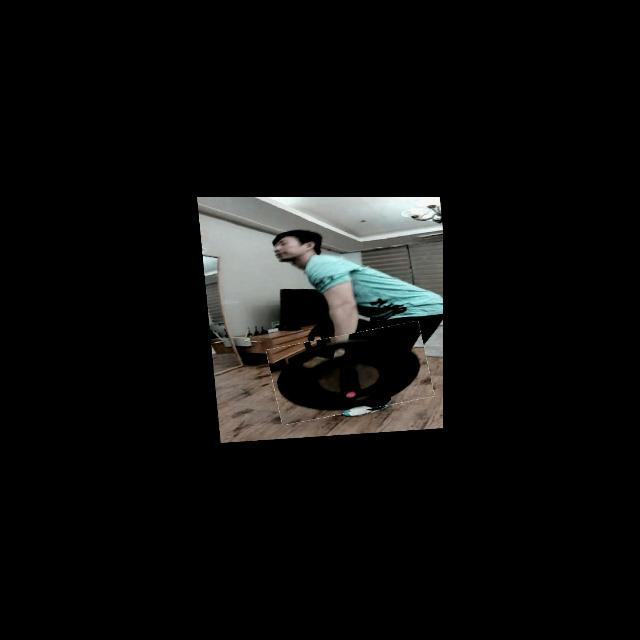barbell: (264, 328, 429, 421)
